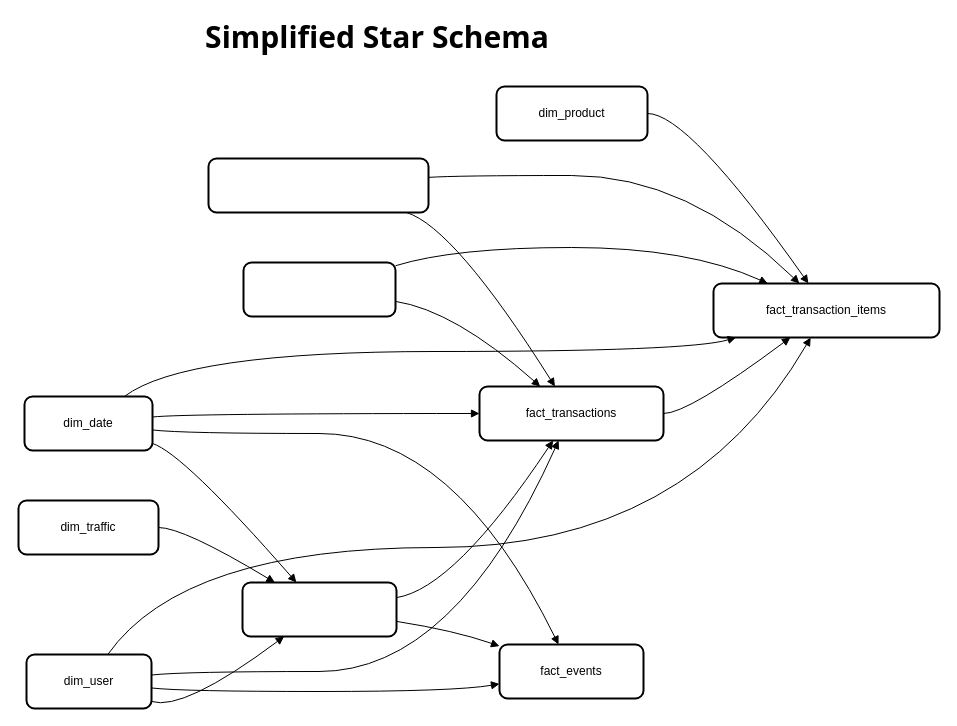
Image size: 957x726. Some labels were removed from this diagram. The centre of each missing label's shape, as x and y in pixels:
dim_payment_method: (x=318, y=185)
dim_voucher: (x=319, y=289)
fact_sessions: (x=319, y=609)
